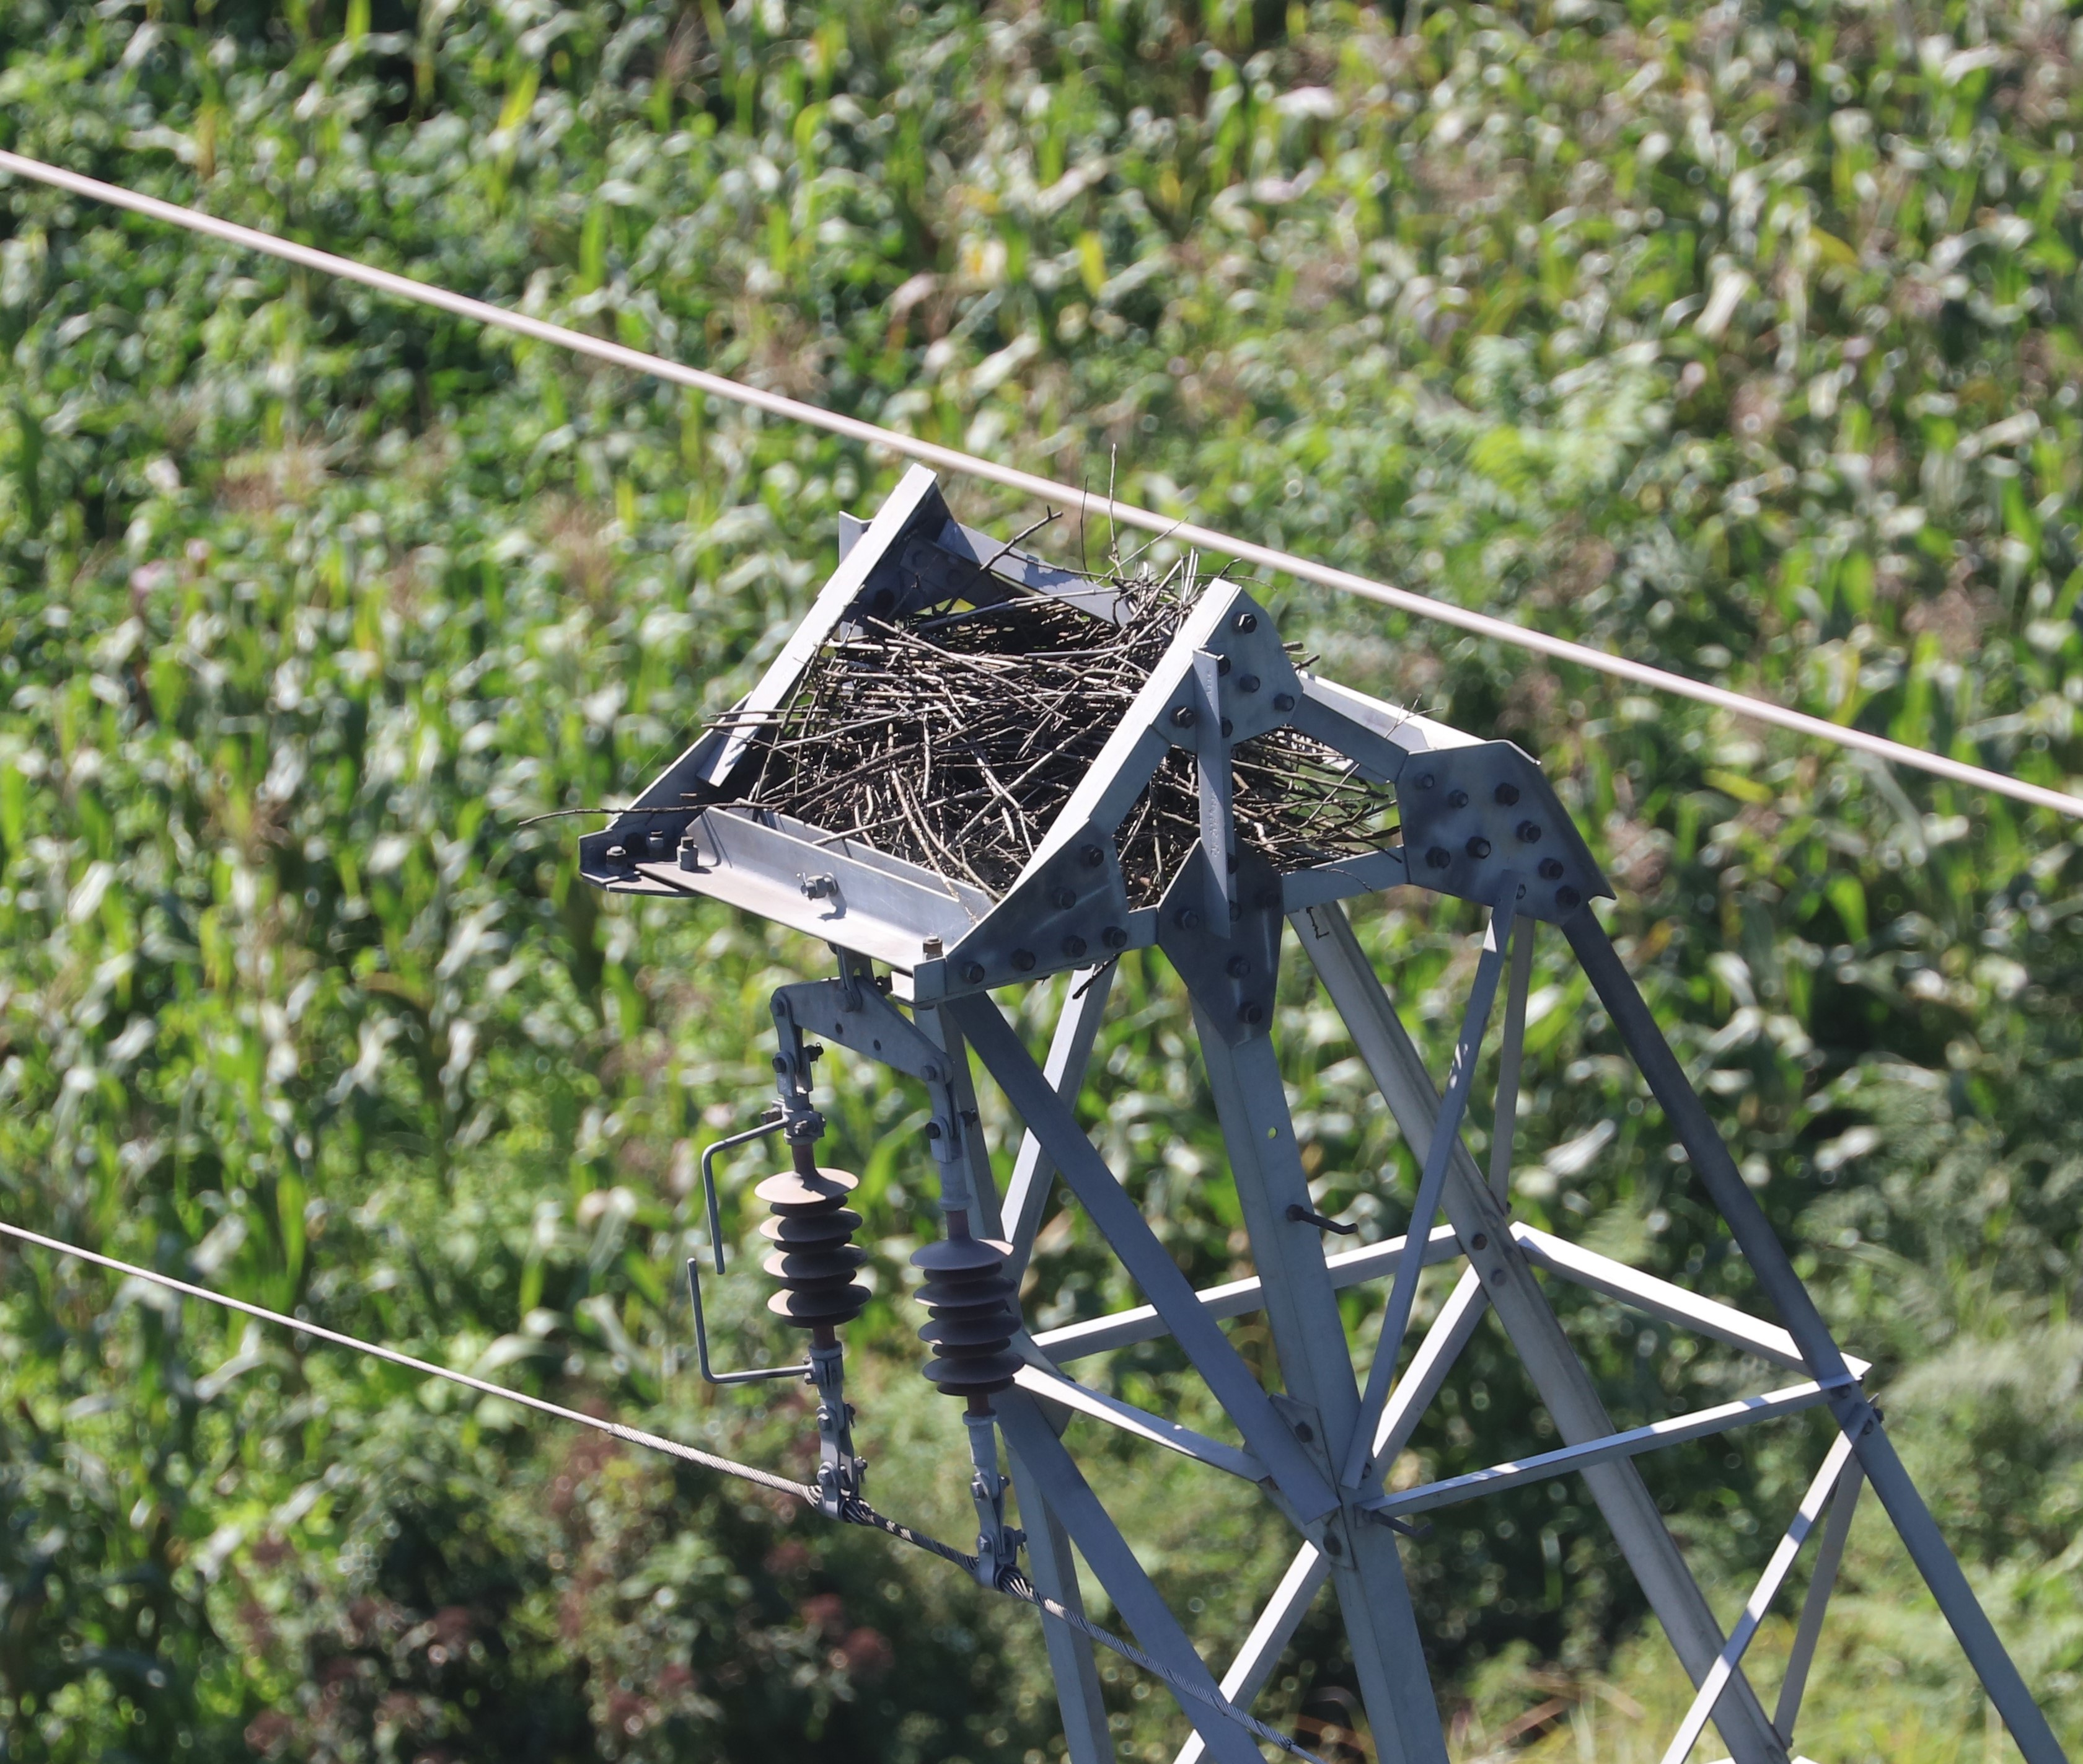niaowo: (719, 544, 1323, 910)
